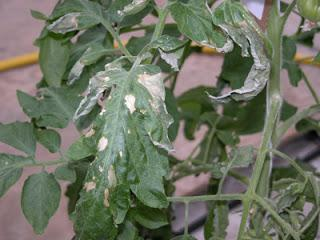Tomato leaf late blight: (67, 57, 175, 237)
